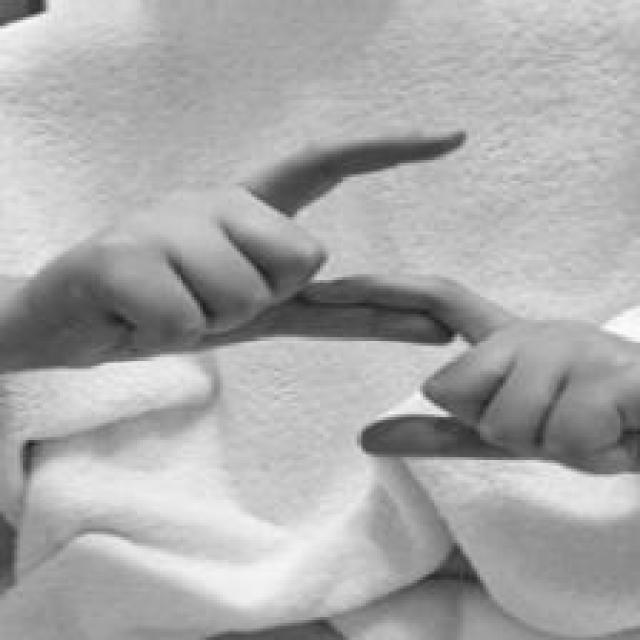S: (26, 119, 640, 477)
